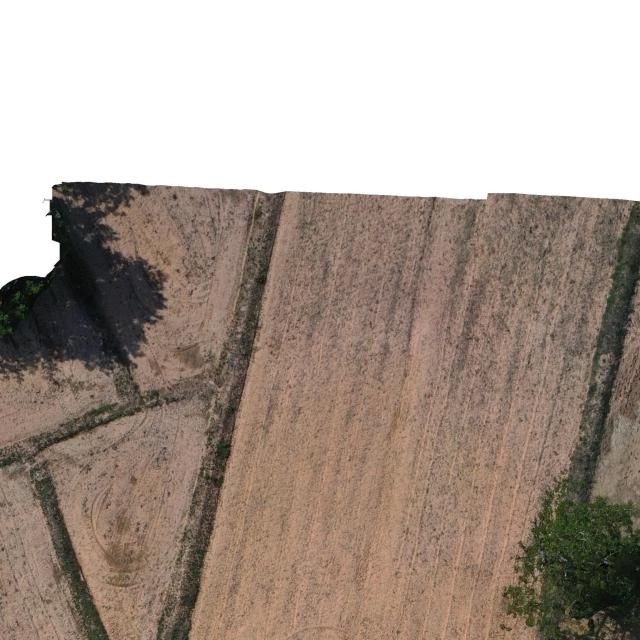Tree: (500, 494, 640, 640)
